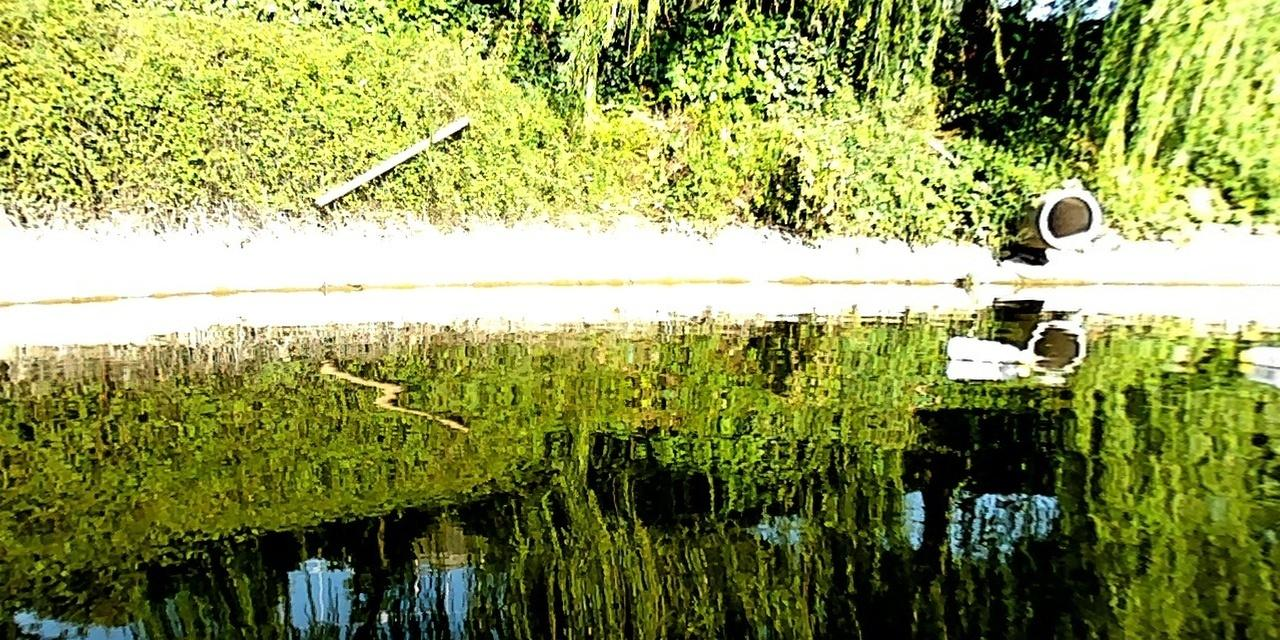bottle: (944, 333, 1028, 364), (1237, 344, 1279, 363)
